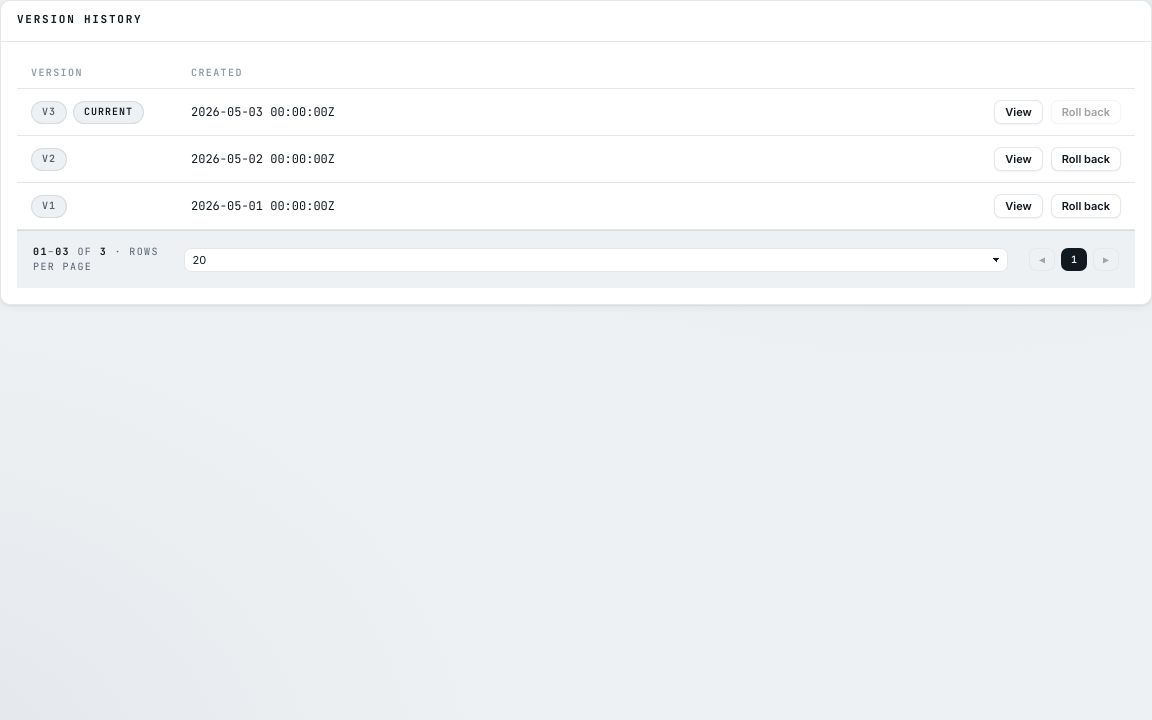
Test: PersonaVersionHistory › fetches and renders an older version’s text on demand
The image size is (1152, 720).
Expected: the text "v3" is shown, [31,101,67,124]
Click the button with aria-label "view version 2": click(1019, 159) [994,147,1043,171]
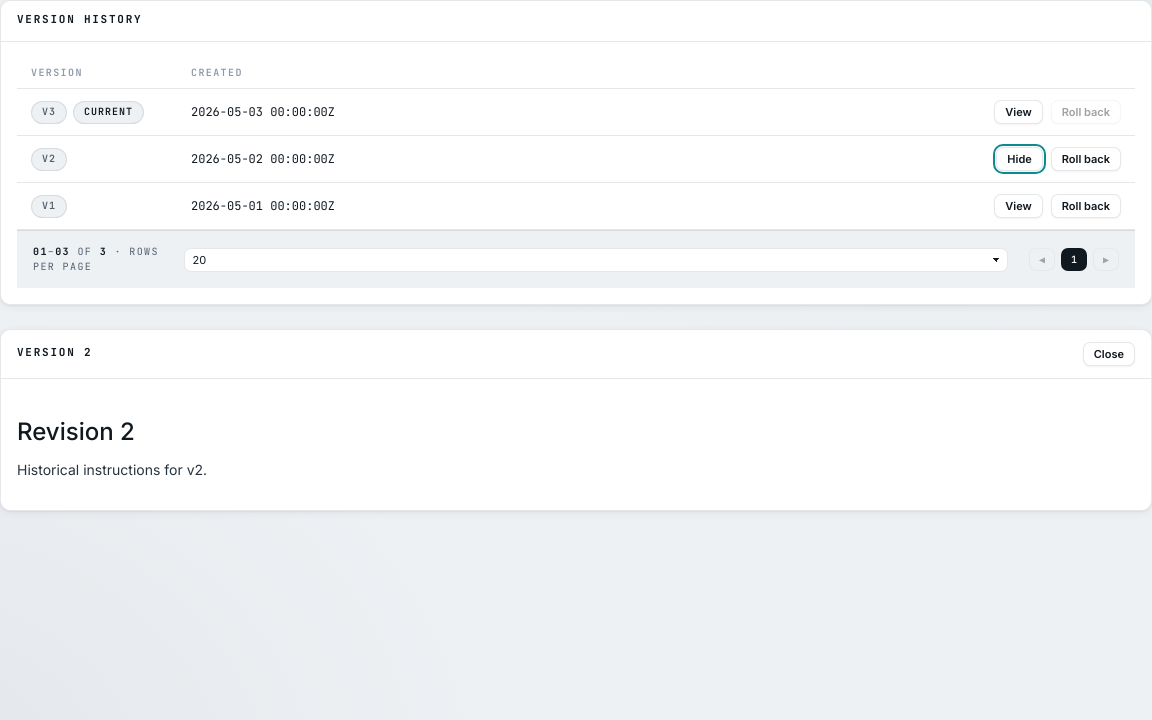
Result: the text "Historical instructions for v2." is shown at [17,462,207,479]
Result: the heading "Version 2" is shown at [17,346,92,362]
